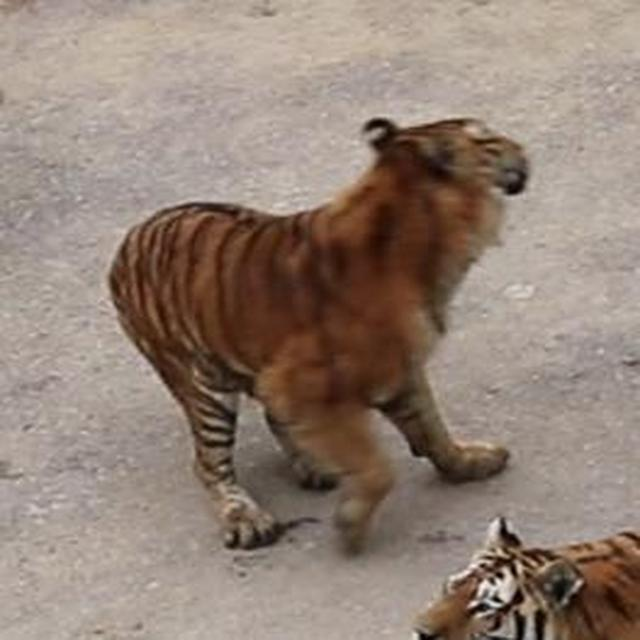tiger: (83, 101, 540, 564), (400, 510, 640, 640)
